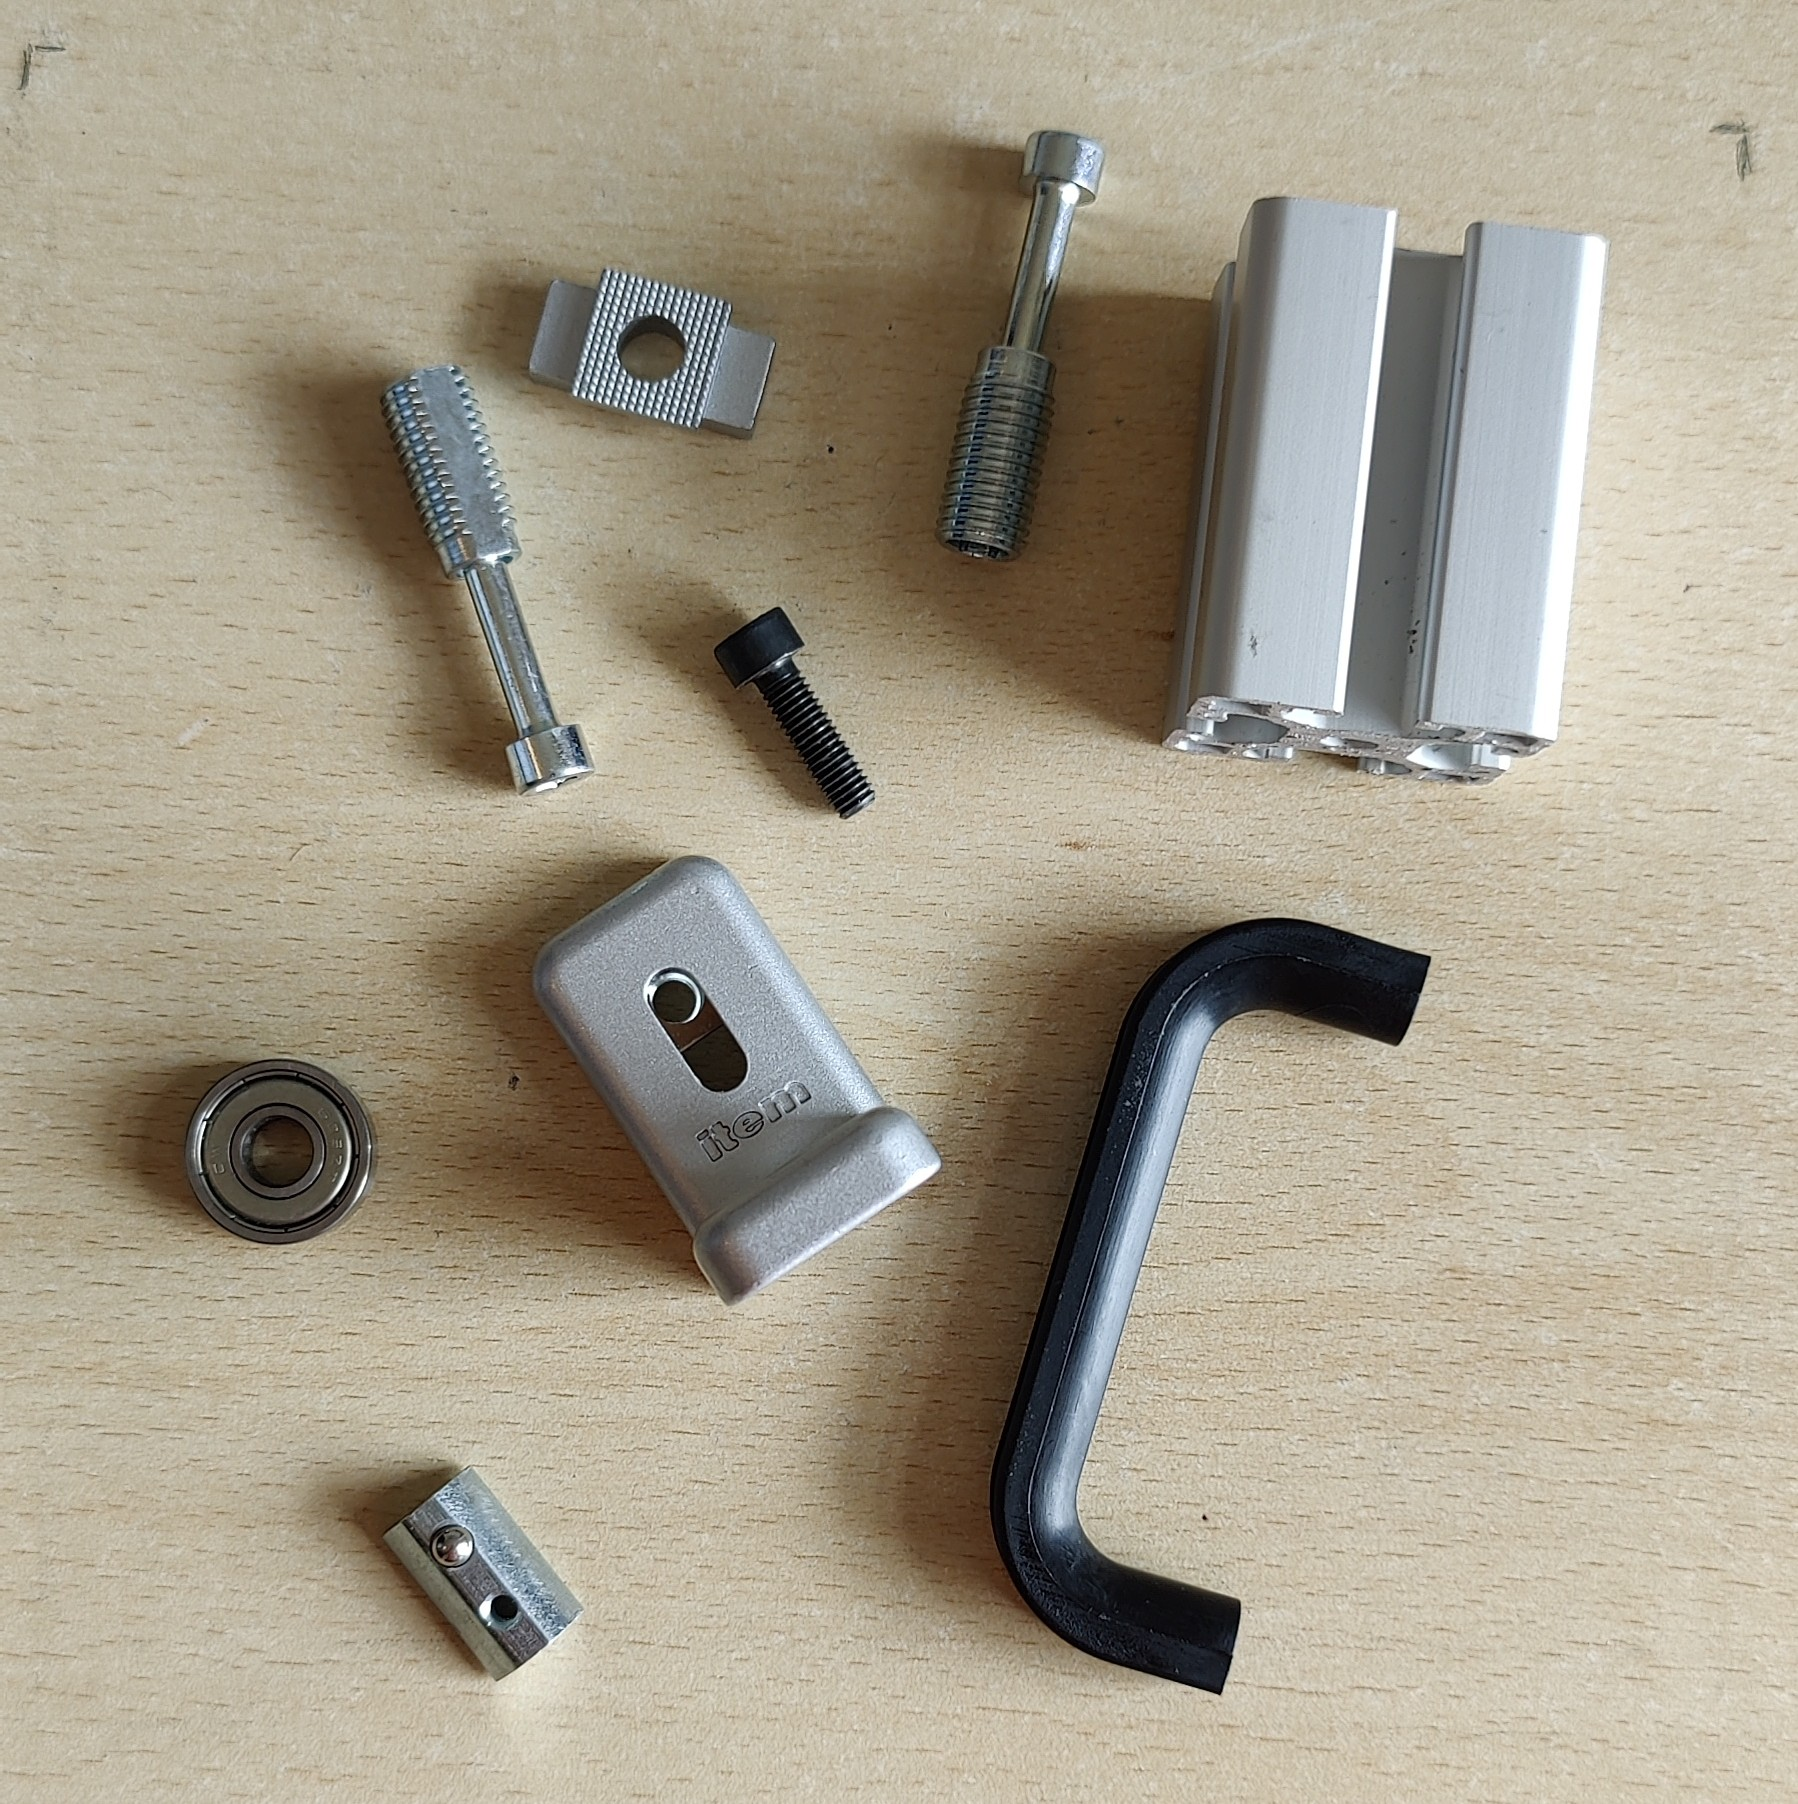Aluminium Extension: (1158, 193, 1614, 790)
Ball Bearing: (183, 1055, 380, 1248)
Multiwinkel: (529, 853, 945, 1310)
Pull Handle: (988, 915, 1432, 1700)
Shoulder Socket Head Cap Screw: (374, 360, 599, 802), (935, 123, 1111, 565)
Socket Head Cap Screw: (710, 602, 878, 826)
T Nut Square: (524, 262, 779, 443)
T Spring Nut: (379, 1467, 588, 1685)
